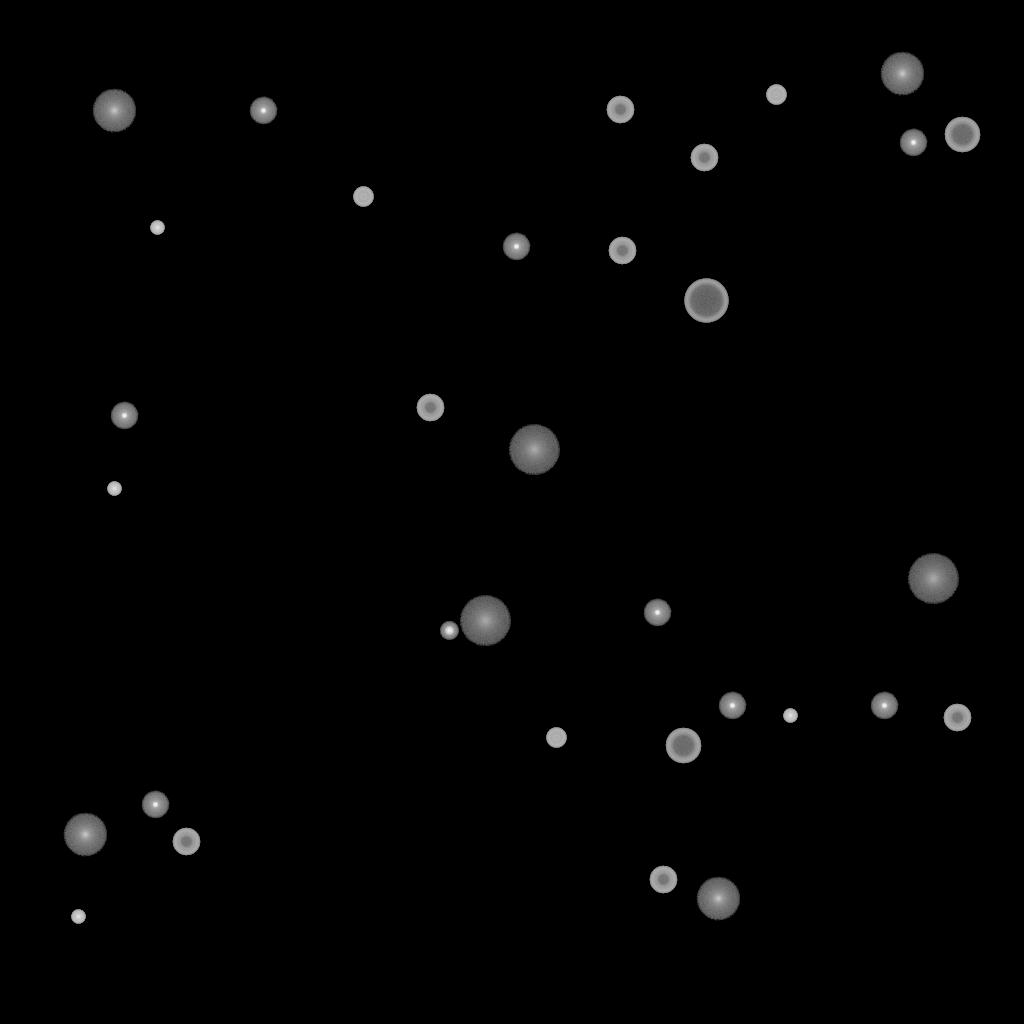depth:-10: (899, 129, 927, 157), (110, 402, 138, 430), (249, 97, 277, 125), (502, 233, 530, 261), (141, 791, 169, 819), (870, 692, 898, 720), (643, 599, 671, 627), (718, 692, 746, 720)
depth:-20: (440, 622, 458, 640)
depth:-30: (150, 221, 164, 235), (107, 482, 121, 496), (71, 910, 85, 924), (783, 709, 797, 723)
depth:-40: (546, 728, 566, 748), (353, 187, 373, 207), (766, 85, 786, 105)
depth:-50: (649, 866, 677, 894), (943, 704, 971, 732), (606, 96, 634, 124), (172, 828, 200, 856), (690, 144, 718, 172), (608, 237, 636, 265), (416, 394, 444, 422)
depth:-60: (944, 117, 980, 153), (665, 728, 701, 764)
depth:-70: (684, 279, 728, 323)
depth:10: (63, 813, 107, 857), (92, 89, 136, 133), (880, 52, 924, 96), (696, 877, 740, 921)
depth:20: (459, 596, 511, 646), (907, 554, 959, 604), (508, 425, 560, 475)
